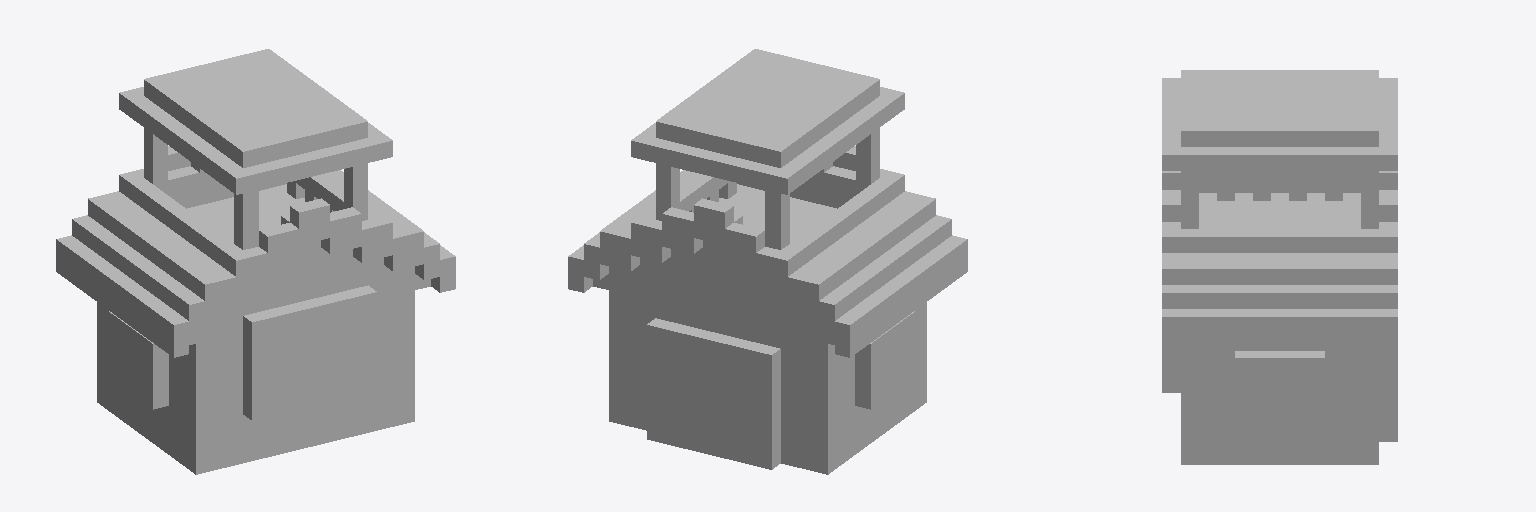
File: barn2.obj
The picture shows the model from 3 angles: view 1: azimuth 30°, elevation 25°; view 2: azimuth 150°, elevation 25°; view 3: azimuth 270°, elevation 25°; orthographic projection.
Size of the model in its own units: 18 by 19 by 13.